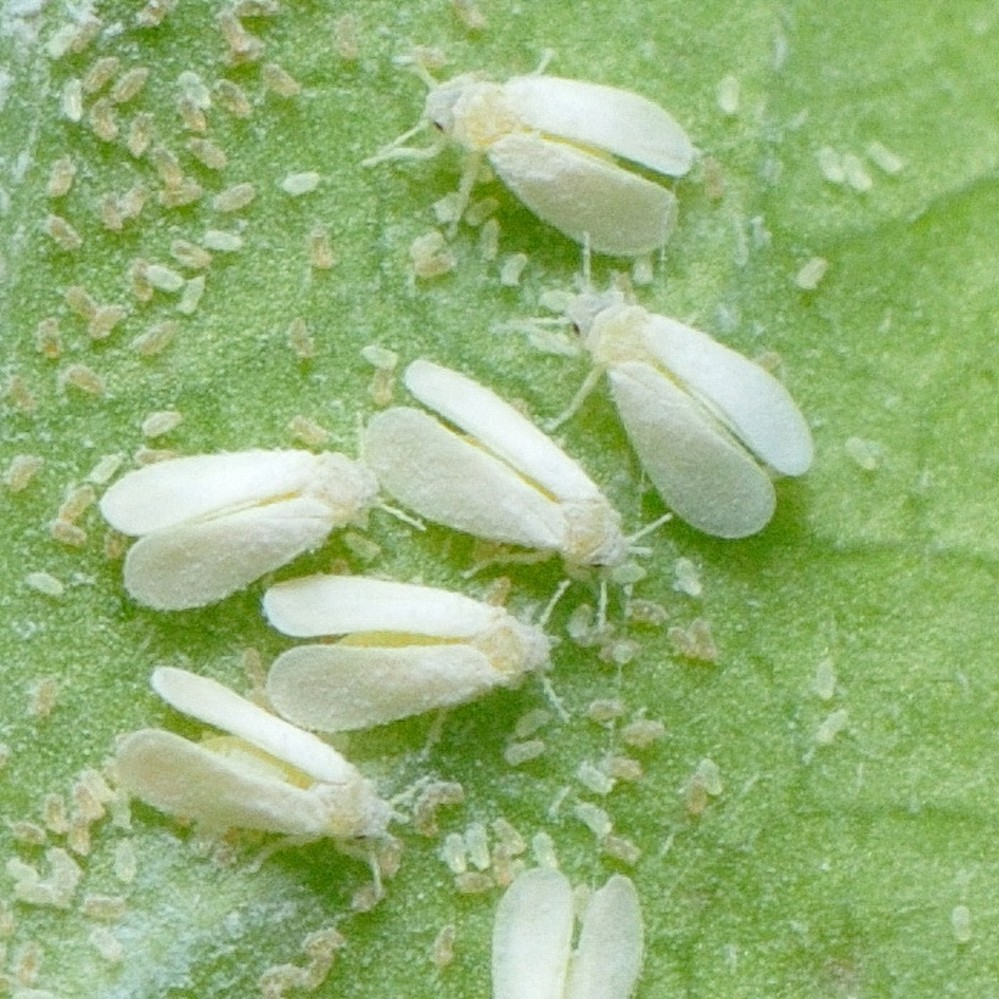Mosca Blanca: (357, 39, 745, 285), (534, 268, 825, 564), (364, 347, 661, 607), (80, 418, 409, 617), (115, 666, 399, 875), (249, 566, 592, 735), (458, 849, 666, 996)
